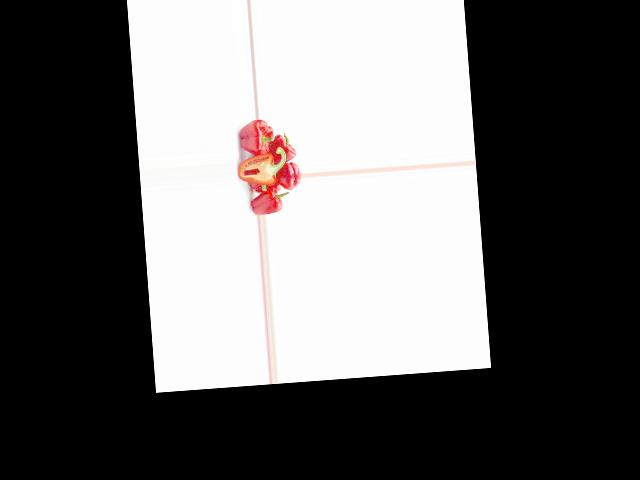bell_pepper: (271, 132, 297, 164)
